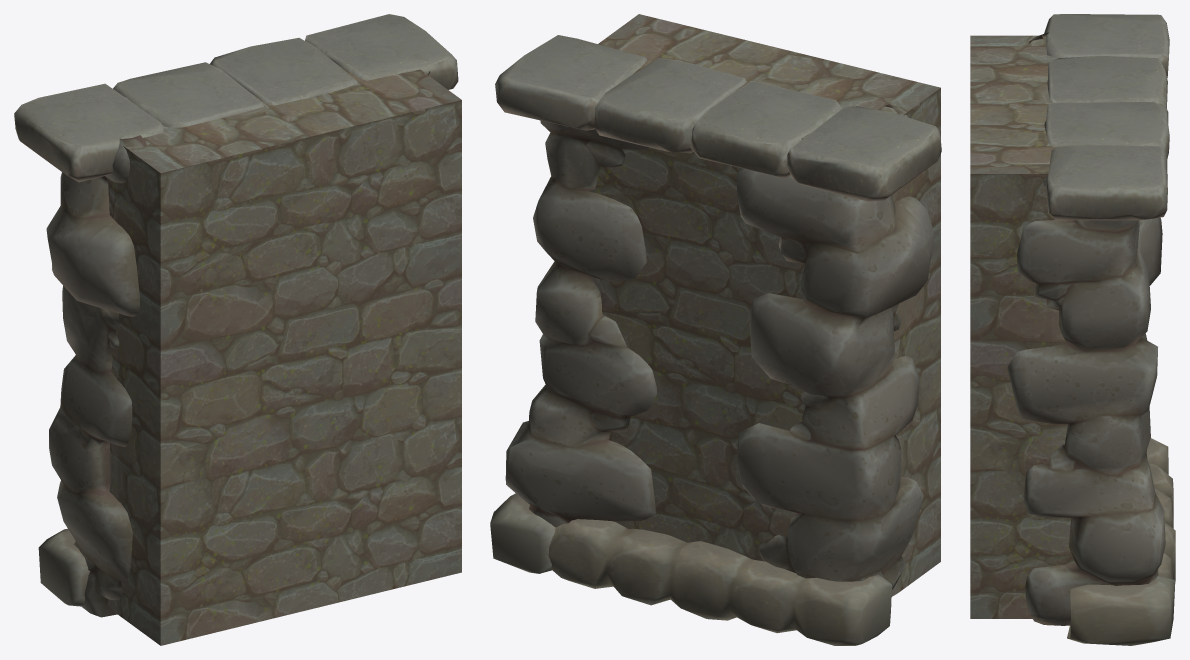
The model's file is SM_FW01_Ruins_Int_Pillar_A_2x3_Half_01.fbx.
3 views of the same model, side by side, from view 1: azimuth 30°, elevation 25°; view 2: azimuth 150°, elevation 25°; view 3: azimuth 270°, elevation 25° (orthographic). The views are drawn at different scales.
Parts seen in each view (by area): view 1: SM_FW01_Ruins_Int_Pillar_A_2x3_Half_01, SM_FW01_Ruins_Int_Pillar_A_2x3_Half_01_LOD0; view 2: SM_FW01_Ruins_Int_Pillar_A_2x3_Half_01_LOD0, SM_FW01_Ruins_Int_Pillar_A_2x3_Half_01; view 3: SM_FW01_Ruins_Int_Pillar_A_2x3_Half_01_LOD0, SM_FW01_Ruins_Int_Pillar_A_2x3_Half_01.
Part boxes in pixels (box(x1,y1,x2,y2)): SM_FW01_Ruins_Int_Pillar_A_2x3_Half_01: box(107, 67, 461, 645); SM_FW01_Ruins_Int_Pillar_A_2x3_Half_01_LOD0: box(14, 14, 458, 617); SM_FW01_Ruins_Int_Pillar_A_2x3_Half_01_LOD0: box(490, 35, 941, 645); SM_FW01_Ruins_Int_Pillar_A_2x3_Half_01: box(561, 14, 940, 596); SM_FW01_Ruins_Int_Pillar_A_2x3_Half_01_LOD0: box(1007, 14, 1175, 645); SM_FW01_Ruins_Int_Pillar_A_2x3_Half_01: box(970, 35, 1075, 618).
Size of what is drawn, in the model's own units: 2.64 by 3.13 by 1.26.
